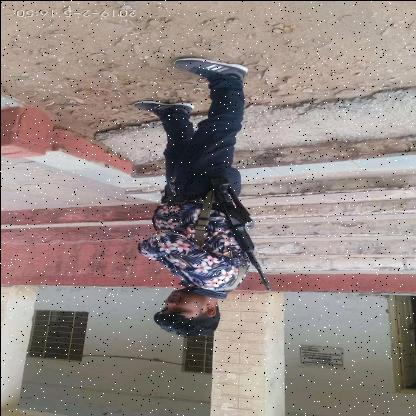rifle: (204, 174, 272, 290)
